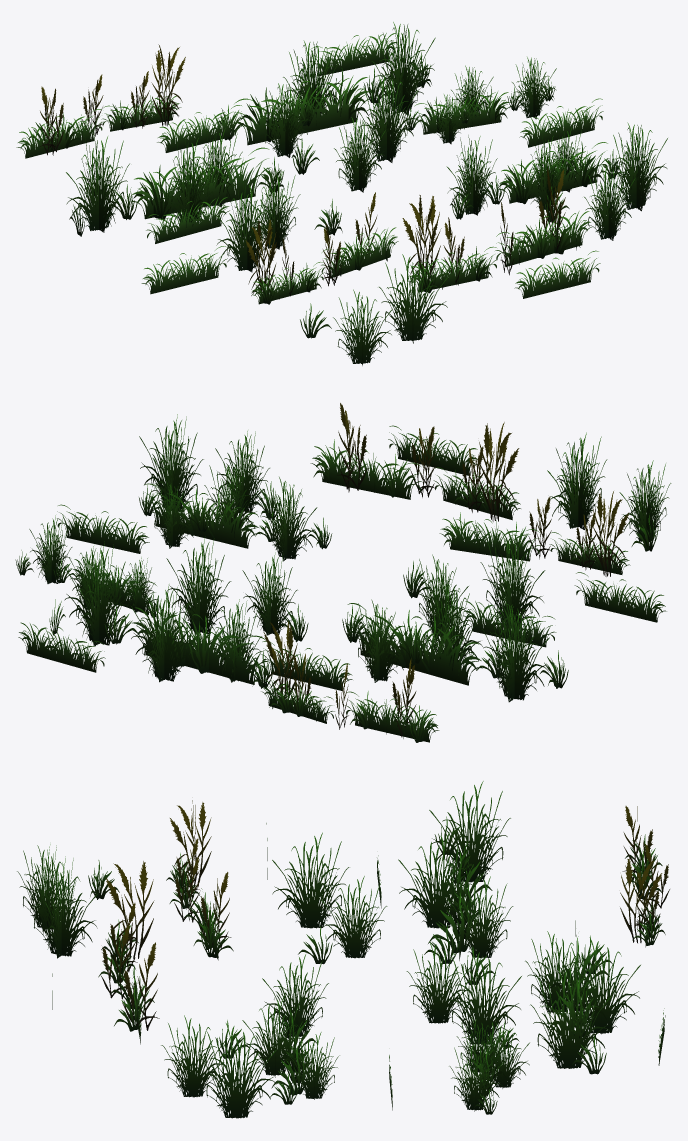
File: grassField.glb
3 renders of one model, top to bottom at view 1: azimuth 30°, elevation 25°; view 2: azimuth 150°, elevation 25°; view 3: azimuth 270°, elevation 25°, orthographic. The views are drawn at different scales.
Visible parts, largest first — view 1: grass(noColl)(light); view 2: grass(noColl)(light); view 3: grass(noColl)(light).
Part boxes in pixels (x1,y1,x2,y2): grass(noColl)(light): (16, 22, 667, 365); grass(noColl)(light): (15, 403, 671, 742); grass(noColl)(light): (17, 781, 669, 1118).
Bounding box in the file's own units: 20.38 × 4.54 × 20.27.
3 materials, 3 textured.
